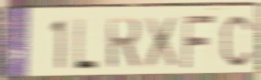1: (50, 17, 69, 72)
C: (220, 13, 253, 69)
F: (181, 13, 217, 71)
L: (71, 16, 100, 72)
R: (106, 15, 142, 71)
X: (142, 15, 180, 71)
